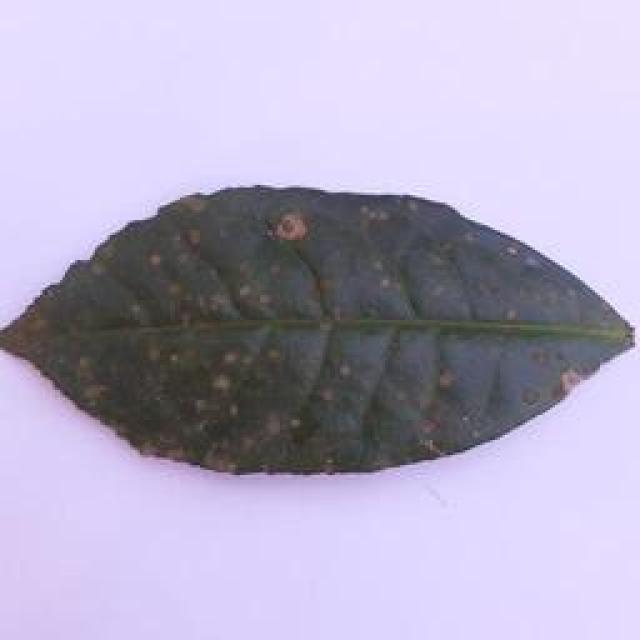Algal Leaf Spot: (0, 178, 634, 488)
